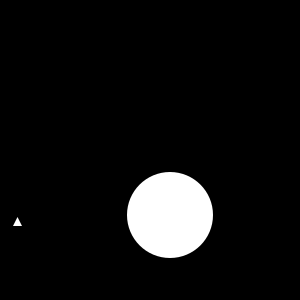rectangle: (127, 172, 213, 258)
triangle: (13, 217, 22, 226)
